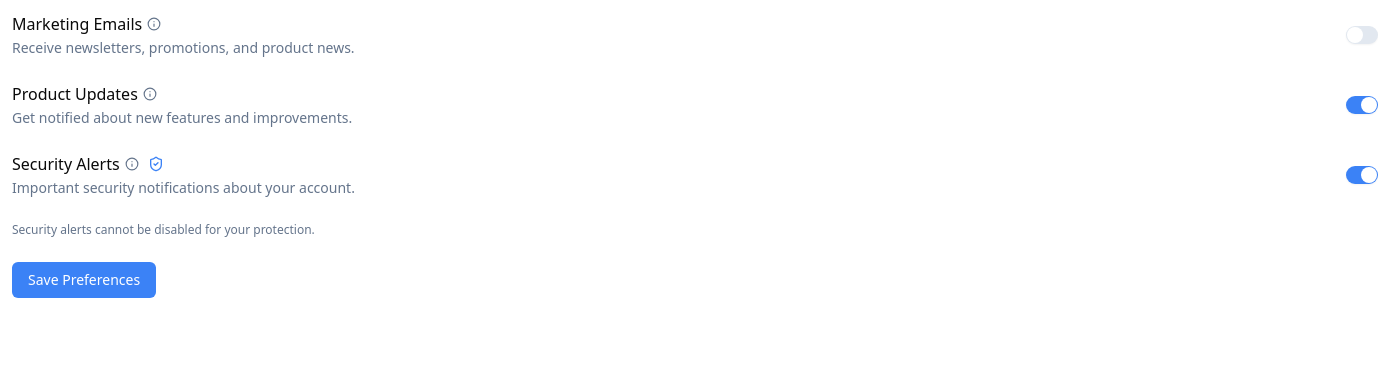
Scenario: components/forms/preferences-form › error handling › should display generic error on unexpected error
The width and height of the screenshot is (1390, 383).
Click the button "Save Preferences".
click(84, 280)  # box [12,262,156,298]
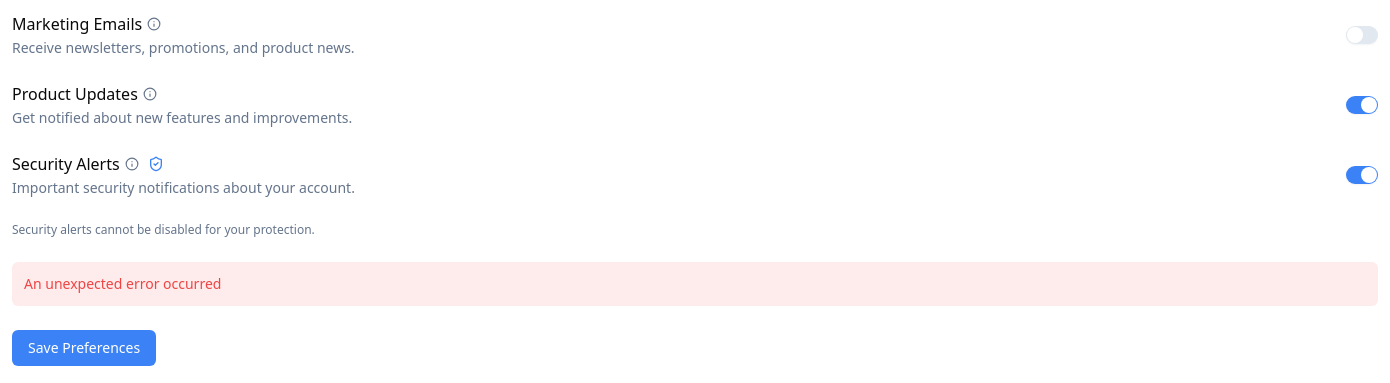
Now the text "An unexpected error occurred" is shown, box [12,262,1378,306]
